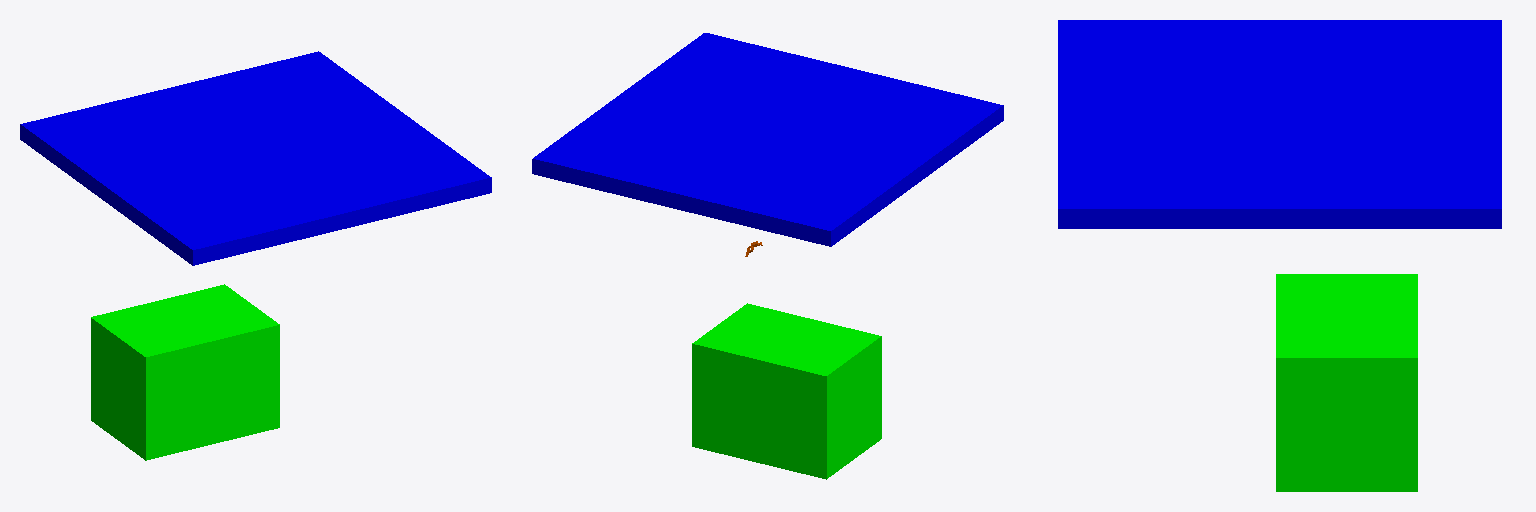
robot.urdf — ur10:
<?xml version="1.0" ?>
<!-- =================================================================================== -->
<!-- |    This document was autogenerated by xacro from ur10_robot.urdf.xacro          | -->
<!-- |    EDITING THIS FILE BY HAND IS NOT RECOMMENDED                                 | -->
<!-- =================================================================================== -->
<robot name="ur10" xmlns:xacro="http://ros.org/wiki/xacro">
  <gazebo>
    <plugin filename="libgazebo_ros_control.so" name="ros_control">
      <!--robotNamespace>/</robotNamespace-->
      <!--robotSimType>gazebo_ros_control/DefaultRobotHWSim</robotSimType-->
    </plugin>
  </gazebo>
  <!--
  Author: [author]
  Contributers: [author], [author], [author]
-->
  <!-- measured from model -->

  <!-- nothing to do here at the moment -->
  <!-- ROS base_link to UR 'Base' Coordinates transform -->
  <link name="base"/>
  <joint name="base_link-base_fixed_joint" type="fixed">
    <!-- NOTE: this rotation is only needed as long as base_link itself is
                 not corrected wrt the real robot (ie: rotated over 180
                 degrees)
      -->
    <origin rpy="0 0 1.5707963" xyz="0 0 0"/>
    <parent link="base"/>
    <child link="base_link"/>
  </joint>

  <link name="base_link">
    <visual>
      <geometry>
        <mesh filename="package://ur_description/meshes/ur10/visual/base.dae"/>
      </geometry>
      <material name="LightGrey">
        <color rgba="0.7 0.7 0.7 1.0"/>
      </material>
    </visual>
    <collision>
      <geometry>
        <mesh filename="package://ur_description/meshes/ur10/collision/base.stl"/>
      </geometry>
    </collision>
    <inertial>
      <mass value="4.0"/>
      <origin rpy="0 0 0" xyz="0.0 0.0 0.0"/>
      <inertia ixx="0.0061063308908" ixy="0.0" ixz="0.0" iyy="0.0061063308908" iyz="0.0" izz="0.01125"/>
    </inertial>
  </link>
  <joint name="shoulder_pan_joint" type="revolute">
    <parent link="base_link"/>
    <child link="shoulder_link"/>
    <origin rpy="0.0 0.0 0.0" xyz="0.0 0.0 0.1273"/>
    <axis xyz="0 0 1"/>
    <limit effort="330.0" lower="-1.3" upper="1.6" velocity="2.16"/>
    <dynamics damping="0.0" friction="0.0"/>
  </joint>
  <link name="shoulder_link">
    <visual>
      <geometry>
        <mesh filename="package://ur_description/meshes/ur10/visual/shoulder.dae"/>
      </geometry>
      <material name="LightGrey">
        <color rgba="0.7 0.7 0.7 1.0"/>
      </material>
    </visual>
    <collision>
      <geometry>
        <mesh filename="package://ur_description/meshes/ur10/collision/shoulder.stl"/>
      </geometry>
    </collision>
    <inertial>
      <mass value="7.778"/>
      <origin rpy="0 0 0" xyz="0.0 0.0 0.0"/>
      <inertia ixx="0.0314743125769" ixy="0.0" ixz="0.0" iyy="0.0314743125769" iyz="0.0" izz="0.021875625"/>
    </inertial>
  </link>
  <joint name="shoulder_lift_joint" type="revolute">
    <parent link="shoulder_link"/>
    <child link="upper_arm_link"/>
    <origin rpy="0.0 1.57079632679 0.0" xyz="0.0 0.220941 0.0"/>
    <axis xyz="0 1 0"/>
    <limit effort="330.0" lower="-3.14" upper="1" velocity="2.16"/>
    <dynamics damping="0.0" friction="0.0"/>
  </joint>
  <link name="upper_arm_link">
    <visual>
      <geometry>
        <mesh filename="package://ur_description/meshes/ur10/visual/upperarm.dae"/>
      </geometry>
      <material name="LightGrey">
        <color rgba="0.7 0.7 0.7 1.0"/>
      </material>
    </visual>
    <collision>
      <geometry>
        <mesh filename="package://ur_description/meshes/ur10/collision/upperarm.stl"/>
      </geometry>
    </collision>
    <inertial>
      <mass value="12.93"/>
      <origin rpy="0 0 0" xyz="0.0 0.0 0.306"/>
      <inertia ixx="0.421753803798" ixy="0.0" ixz="0.0" iyy="0.421753803798" iyz="0.0" izz="0.036365625"/>
    </inertial>
  </link>
  <joint name="elbow_joint" type="revolute">
    <parent link="upper_arm_link"/>
    <child link="forearm_link"/>
    <origin rpy="0.0 0.0 0.0" xyz="0.0 -0.1719 0.612"/>
    <axis xyz="0 1 0"/>
    <limit effort="150.0" lower="-3.14159265359" upper="-1" velocity="3.15"/>
    <dynamics damping="0.0" friction="0.0"/>
  </joint>
  <link name="forearm_link">
    <visual>
      <geometry>
        <mesh filename="package://ur_description/meshes/ur10/visual/forearm.dae"/>
      </geometry>
      <material name="LightGrey">
        <color rgba="0.7 0.7 0.7 1.0"/>
      </material>
    </visual>
    <collision>
      <geometry>
        <mesh filename="package://ur_description/meshes/ur10/collision/forearm.stl"/>
      </geometry>
    </collision>
    <inertial>
      <mass value="3.87"/>
      <origin rpy="0 0 0" xyz="0.0 0.0 0.28615"/>
      <inertia ixx="0.111069694097" ixy="0.0" ixz="0.0" iyy="0.111069694097" iyz="0.0" izz="0.010884375"/>
    </inertial>
  </link>
  <joint name="wrist_1_joint" type="revolute">
    <parent link="forearm_link"/>
    <child link="wrist_1_link"/>
    <origin rpy="0.0 1.57079632679 0.0" xyz="0.0 0.0 0.5723"/>
    <axis xyz="0 1 0"/>
    <limit effort="54.0" lower="-1.5" upper="2.5" velocity="3.2"/>
    <dynamics damping="0.0" friction="0.0"/>
  </joint>
  <link name="wrist_1_link">
    <visual>
      <geometry>
        <mesh filename="package://ur_description/meshes/ur10/visual/wrist1.dae"/>
      </geometry>
      <material name="LightGrey">
        <color rgba="0.7 0.7 0.7 1.0"/>
      </material>
    </visual>
    <collision>
      <geometry>
        <mesh filename="package://ur_description/meshes/ur10/collision/wrist1.stl"/>
      </geometry>
    </collision>
    <inertial>
      <mass value="1.96"/>
      <origin rpy="0 0 0" xyz="0.0 0.0 0.0"/>
      <inertia ixx="0.0051082479567" ixy="0.0" ixz="0.0" iyy="0.0051082479567" iyz="0.0" izz="0.0055125"/>
    </inertial>
  </link>
  <joint name="wrist_2_joint" type="revolute">
    <parent link="wrist_1_link"/>
    <child link="wrist_2_link"/>
    <origin rpy="0.0 0.0 0.0" xyz="0.0 0.1149 0.0"/>
    <axis xyz="0 0 1"/>
    <limit effort="54.0" lower="0" upper="2.4" velocity="3.2"/>
    <dynamics damping="0.0" friction="0.0"/>
  </joint>
  <link name="wrist_2_link">
    <visual>
      <geometry>
        <mesh filename="package://ur_description/meshes/ur10/visual/wrist2.dae"/>
      </geometry>
      <material name="LightGrey">
        <color rgba="0.7 0.7 0.7 1.0"/>
      </material>
    </visual>
    <collision>
      <geometry>
        <mesh filename="package://ur_description/meshes/ur10/collision/wrist2.stl"/>
      </geometry>
    </collision>
    <inertial>
      <mass value="1.96"/>
      <origin rpy="0 0 0" xyz="0.0 0.0 0.0"/>
      <inertia ixx="0.0051082479567" ixy="0.0" ixz="0.0" iyy="0.0051082479567" iyz="0.0" izz="0.0055125"/>
    </inertial>
  </link>
  <joint name="wrist_3_joint" type="revolute">
    <parent link="wrist_2_link"/>
    <child link="wrist_3_link"/>
    <origin rpy="0.0 0.0 0.0" xyz="0.0 0.0 0.1157"/>
    <axis xyz="0 1 0"/>
    <limit effort="54.0" lower="-3.14" upper="3.14" velocity="3.2"/>
    <dynamics damping="0.0" friction="0.0"/>
  </joint>
  <link name="wrist_3_link">
    <visual>
      <geometry>
        <mesh filename="package://ur_description/meshes/ur10/visual/wrist3.dae"/>
      </geometry>
      <material name="LightGrey">
        <color rgba="0.7 0.7 0.7 1.0"/>
      </material>
    </visual>
    <collision>
      <geometry>
        <mesh filename="package://ur_description/meshes/ur10/collision/wrist3.stl"/>
      </geometry>
    </collision>
    <inertial>
      <mass value="0.202"/>
      <origin rpy="0 0 0" xyz="0.0 0.0 0.0"/>
      <inertia ixx="0.000526462289415" ixy="0.0" ixz="0.0" iyy="0.000526462289415" iyz="0.0" izz="0.000568125"/>
    </inertial>
  </link>
  <joint name="ee_fixed_joint" type="fixed">
    <parent link="wrist_3_link"/>
    <child link="ee_link"/>
    <origin rpy="0.0 0.0 1.57079632679" xyz="0.0 0.0922 0.0"/>
  </joint>
  <link name="ee_link">
    <collision>
      <geometry>
        <box size="0.01 0.01 0.01"/>
      </geometry>
      <origin rpy="0 0 0" xyz="-0.01 0 0"/>
    </collision>
  </link>
  <transmission name="shoulder_pan_trans">
    <type>transmission_interface/SimpleTransmission</type>
    <joint name="shoulder_pan_joint">
      <hardwareInterface>hardware_interface/PositionJointInterface</hardwareInterface>
    </joint>
    <actuator name="shoulder_pan_motor">
      <mechanicalReduction>1</mechanicalReduction>
    </actuator>
  </transmission>
  <transmission name="shoulder_lift_trans">
    <type>transmission_interface/SimpleTransmission</type>
    <joint name="shoulder_lift_joint">
      <hardwareInterface>hardware_interface/PositionJointInterface</hardwareInterface>
    </joint>
    <actuator name="shoulder_lift_motor">
      <mechanicalReduction>1</mechanicalReduction>
    </actuator>
  </transmission>
  <transmission name="elbow_trans">
    <type>transmission_interface/SimpleTransmission</type>
    <joint name="elbow_joint">
      <hardwareInterface>hardware_interface/PositionJointInterface</hardwareInterface>
    </joint>
    <actuator name="elbow_motor">
      <mechanicalReduction>1</mechanicalReduction>
    </actuator>
  </transmission>
  <transmission name="wrist_1_trans">
    <type>transmission_interface/SimpleTransmission</type>
    <joint name="wrist_1_joint">
      <hardwareInterface>hardware_interface/PositionJointInterface</hardwareInterface>
    </joint>
    <actuator name="wrist_1_motor">
      <mechanicalReduction>1</mechanicalReduction>
    </actuator>
  </transmission>
  <transmission name="wrist_2_trans">
    <type>transmission_interface/SimpleTransmission</type>
    <joint name="wrist_2_joint">
      <hardwareInterface>hardware_interface/PositionJointInterface</hardwareInterface>
    </joint>
    <actuator name="wrist_2_motor">
      <mechanicalReduction>1</mechanicalReduction>
    </actuator>
  </transmission>
  <transmission name="wrist_3_trans">
    <type>transmission_interface/SimpleTransmission</type>
    <joint name="wrist_3_joint">
      <hardwareInterface>hardware_interface/PositionJointInterface</hardwareInterface>
    </joint>
    <actuator name="wrist_3_motor">
      <mechanicalReduction>1</mechanicalReduction>
    </actuator>
  </transmission>

  <!-- Frame coincident with all-zeros TCP on UR controller -->
  <link name="tool0"/>
  <joint name="wrist_3_link-tool0_fixed_joint" type="fixed">
    <origin rpy="-1.57079632679 0 0" xyz="0 0.0922 0"/>
    <parent link="wrist_3_link"/>
    <child link="tool0"/>
  </joint>


  <link name="wall1">
    <visual>
      <geometry>
        <box size="2 2 0.1"/>
      </geometry>
      <origin rpy="0 0 0" xyz="0 0 0"/>
	  <material name=" ">
    	<color rgba="0 0 1 0.1"/>
  	  </material>
    </visual>
  </link>
  <joint name="agv_to_wall1" type="fixed">
    <parent link="agv"/>
    <child link="wall1"/>
    <origin rpy="0.0 0.0 0.0" xyz="0.3 -0.3 1.75"/>
  </joint>

  <link name="world"/>

  <link name="agv">
    <visual>
      <geometry>
        <box size="0.9 0.64 0.66"/>
      </geometry>
      <origin rpy="0 0 0" xyz="0 0 0.33"/>
	  <material name="green">
    	<color rgba="0 1 0 1"/>
  	  </material>
    </visual>
  </link>
  <joint name="world_to_agv" type="fixed">
    <parent link="world"/>
    <child link="agv"/>
    <origin rpy="0.0 0.0 0" xyz="-0.275 0 0"/>
  </joint>

  <joint name="agv_to_base_link" type="fixed">
    <parent link="agv"/>
    <child link="base"/>
    <origin rpy="0.0 0.0 0" xyz="0.275 0 0.68"/>
  </joint>

  <link name="realsense">
    <visual>
      <geometry>
        <mesh filename="package://ur_description/meshes/realsense.stl"/>
      </geometry>
    </visual>
  </link>
  <joint name="ee_to_realsense" type="fixed">
    <parent link="ee_link"/>
    <child link="realsense"/>
    <origin rpy="0.0 0.0 0.0" xyz="0.0 0.0 0.0"/>
  </joint>

  <link name="camera">
  </link>
  <joint name="realsense_to_camera" type="fixed">
    <parent link="realsense"/>
    <child link="camera"/>
    <origin rpy="0.0 0.0 0.52333" xyz="0.05877 0.09182 0.0"/>
  </joint>

  <link name="camera1">
  </link>
  <joint name="camera_to_camera1" type="fixed">
    <parent link="camera"/>
    <child link="camera1"/>
    <origin rpy="0 1.57 0" xyz="0 0 0.0"/>
  </joint>

  <link name="camera2">
  </link>
  <joint name="camera1_to_camera2" type="fixed">
    <parent link="camera1"/>
    <child link="camera2"/>
    <origin rpy="0 0 3.14" xyz="0 0 0.0"/>
  </joint>


</robot>

--- Render facts (derived) ---
3 views of the same robot in one strip: view 1: azimuth 30°, elevation 25°; view 2: azimuth 150°, elevation 25°; view 3: azimuth 270°, elevation 25° (orthographic).
Model ur10 with 17 links and 16 joints (6 revolute, 10 fixed), rooted at world, posed all joints at 0 but 1 set to mid-range because 0 is outside their limits (elbow_joint = -2.07).
Links seen in each view (by area): view 1: wall1, agv; view 2: wall1, agv; view 3: wall1, agv.
Boxes of the visible links, bbox=[...] form: wall1: bbox=[20, 51, 491, 265]; agv: bbox=[91, 284, 279, 460]; wall1: bbox=[532, 33, 1003, 246]; agv: bbox=[692, 303, 881, 479]; wall1: bbox=[1058, 20, 1501, 228]; agv: bbox=[1276, 274, 1417, 491].
Bounding box of the posed robot: 2 × 2 × 1.8 m (x, y, z).
1 mesh visuals loaded from 8 distinct referenced files (1 binary STL); not drawn: 7 (reference not matched to a file when rendering).